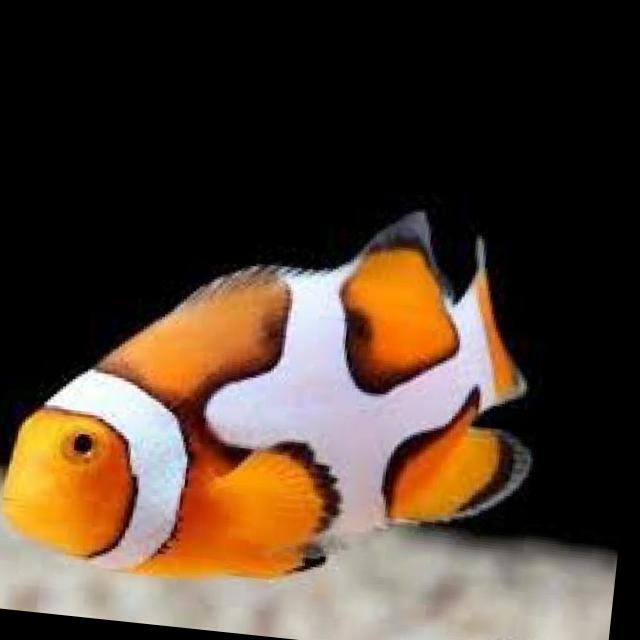ClownFish: (0, 163, 556, 594)
